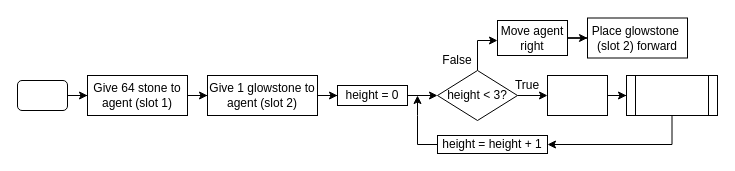
Some shapes in this 735 by 171 pixel diagram are drawn without their labels. Here are the shapes that lost their labels. From the top down, the centre of each, then its label:
the point at 42,95: Start
the point at 577,95: move agent up
the point at 672,95: Create Layer
